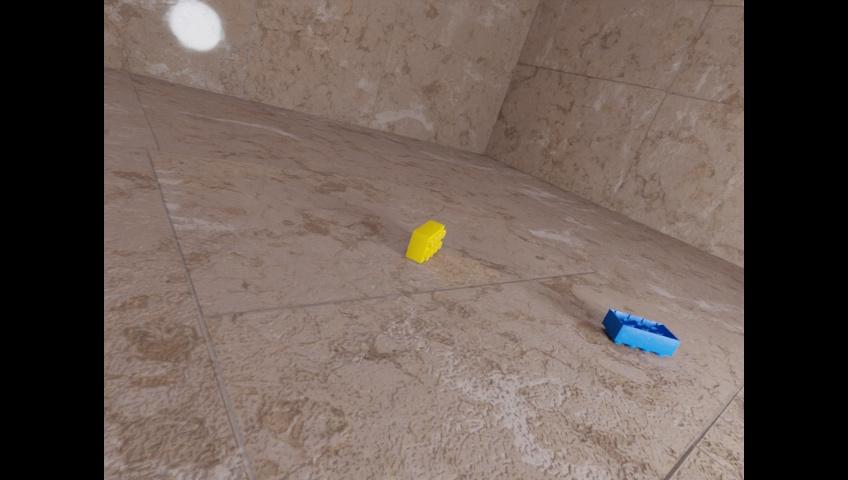4x2_blue: (601, 308, 679, 356)
4x2_yellow: (405, 219, 445, 263)
